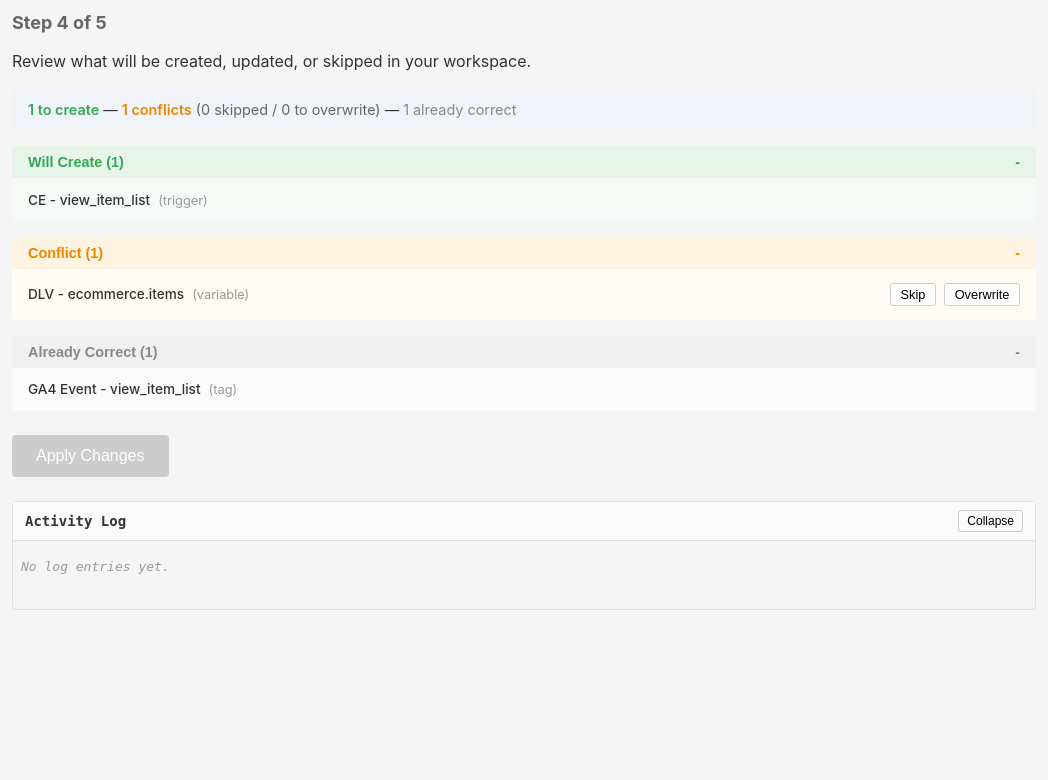
Test case: Step4Preview › enables Apply Changes button when all conflicts are resolved
Step 1. Click the button "Skip" → (913, 294), box [890, 283, 936, 306]
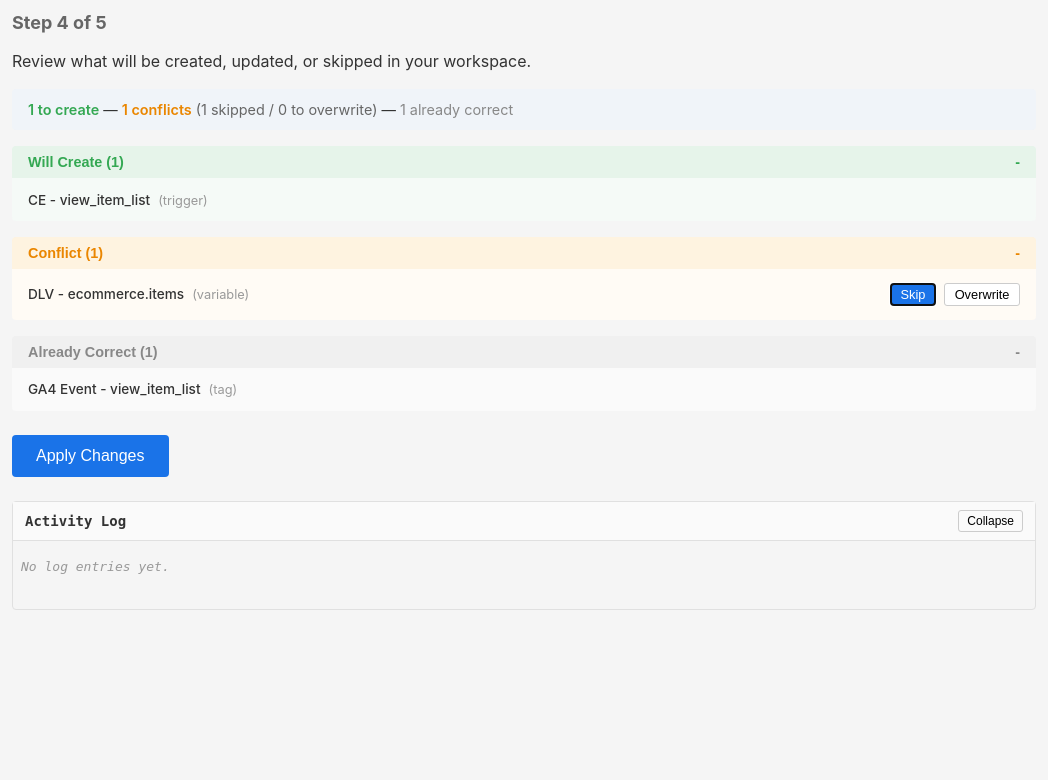
Now the button "Apply Changes" is enabled, box [12, 435, 168, 477]
